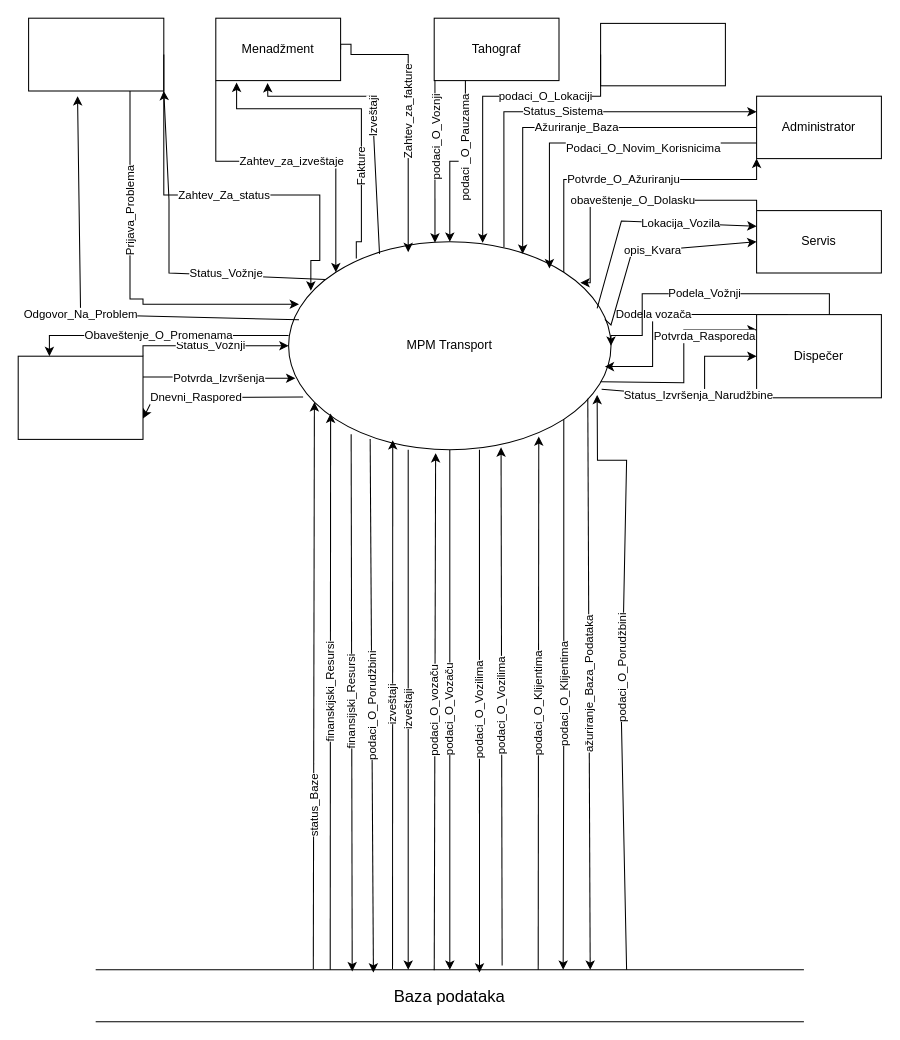
Image size: 900x1040. Some labels were removed from this diagram. Here are the shapes that lost their labels. From the top down, the centre of each, then its label:
[96,54]: Klijent
[662,54]: GPS sistem
[80,397]: Vozač
